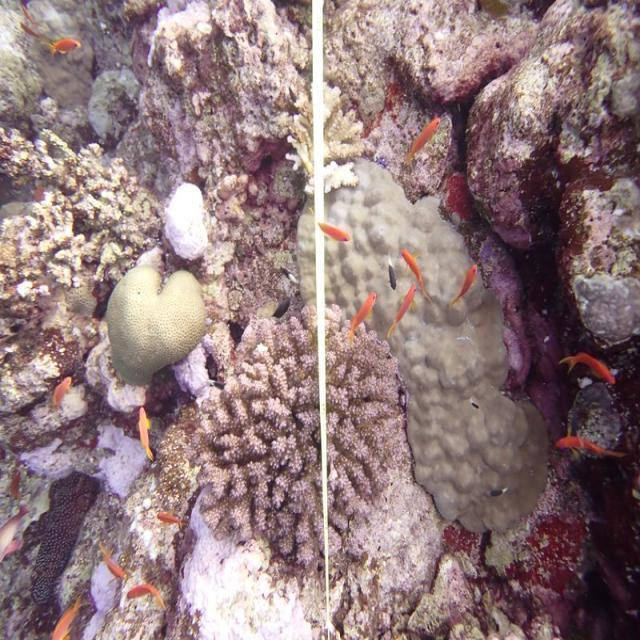Bleached Coral: (174, 497, 317, 640), (157, 163, 228, 271)
Healthy Coral: (210, 319, 409, 513)
